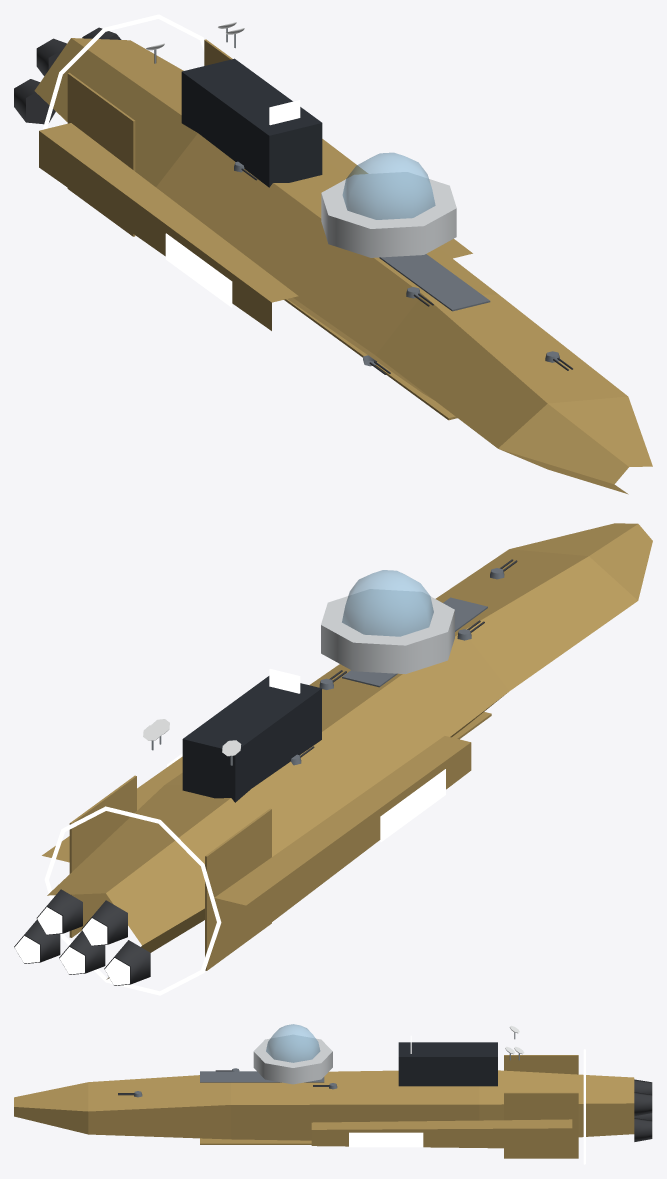
The model's file is space_ship_command_ship_mk7_lod1.glb.
3 renders of one model, top to bottom at view 1: azimuth 30°, elevation 25°; view 2: azimuth 150°, elevation 25°; view 3: azimuth 270°, elevation 25°, orthographic. The views are drawn at different scales.
Visible parts, largest first — view 1: body, hangar_r, engine_0; view 2: body, hangar_r, engine_0, engine_3, engine_1, engine_2, engine_4; view 3: body, hangar_l, engine_3, engine_4, engine_1.
Part boxes in pixels (<box>): body: <box>34,14,652,494</box>; hangar_r: <box>165,233,232,307</box>; engine_0: <box>14,79,55,124</box>; body: <box>42,523,652,995</box>; hangar_r: <box>380,769,445,842</box>; engine_0: <box>104,940,150,985</box>; engine_3: <box>36,889,82,935</box>; engine_1: <box>81,900,127,946</box>; engine_2: <box>59,930,105,974</box>; engine_4: <box>14,919,60,963</box>; body: <box>14,1024,634,1164</box>; hangar_l: <box>349,1132,423,1147</box>; engine_3: <box>634,1092,652,1116</box>; engine_4: <box>634,1118,652,1141</box>; engine_1: <box>634,1079,652,1095</box>.
Bounding box in the file's own units: 31.34 × 31.97 × 142.
